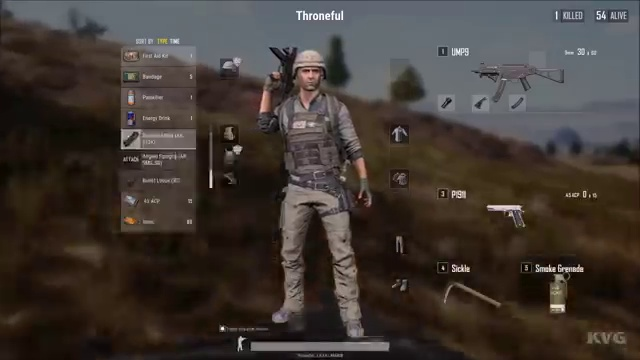Player: (258, 47, 377, 321)
